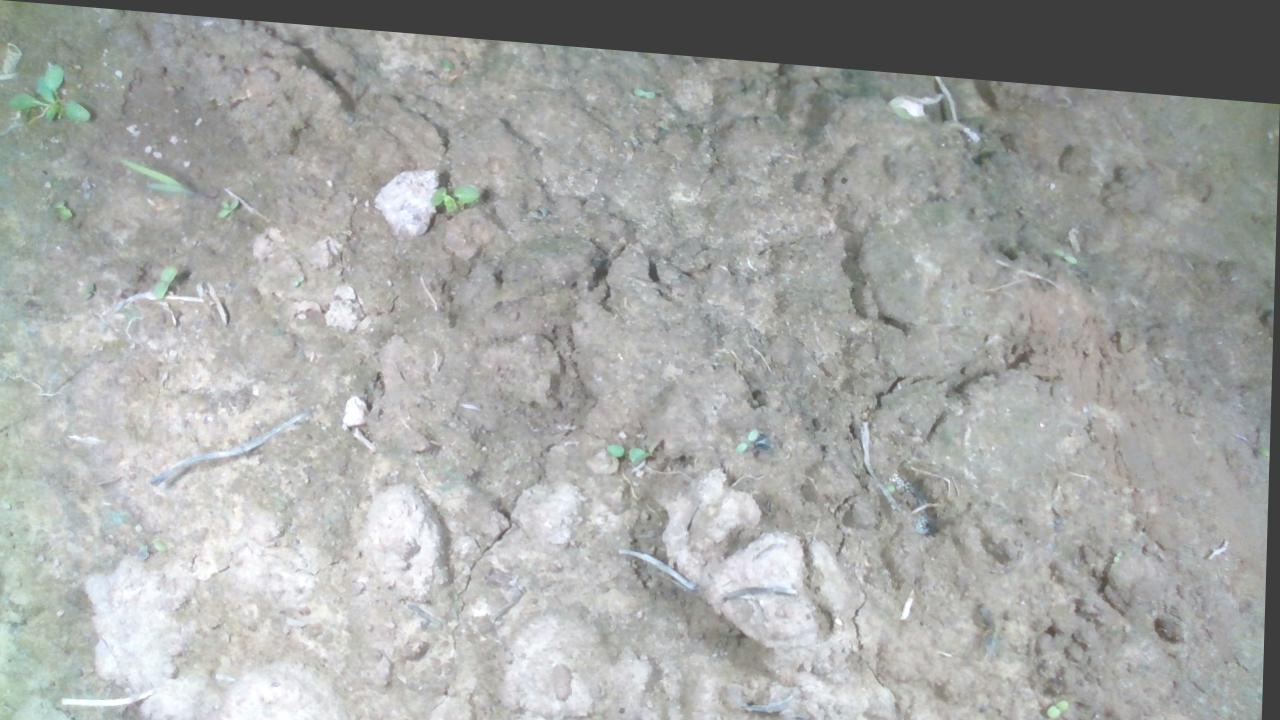weed: (153, 259, 177, 298), (736, 411, 760, 442), (1046, 678, 1072, 701), (217, 190, 240, 214)
